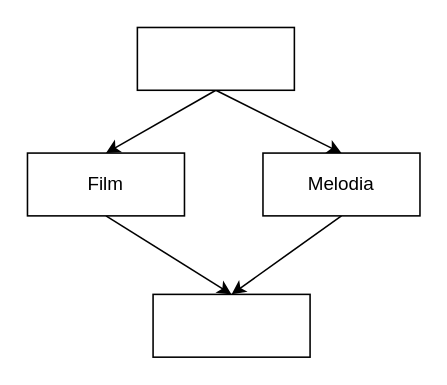
Some shapes in this 447 by 385 pixel diagram are drawn without their labels. Here are the shapes that lost their labels. From the top down, the centre of each, then its label:
the point at 215,58: Media
the point at 231,325: VideoclipMuzical
